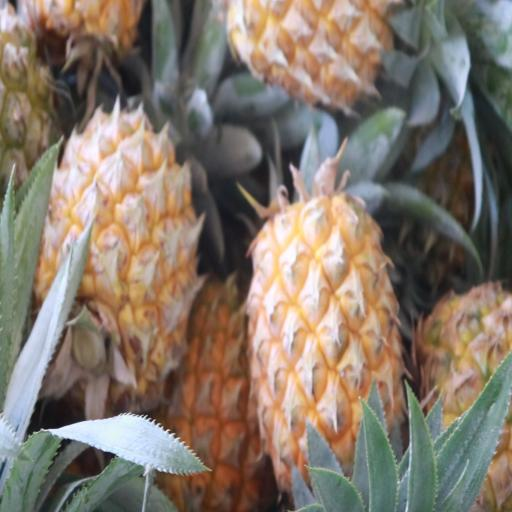Pineapple - v8 v1: (252, 203, 403, 512), (45, 106, 196, 395), (156, 284, 268, 512), (405, 287, 512, 509)
